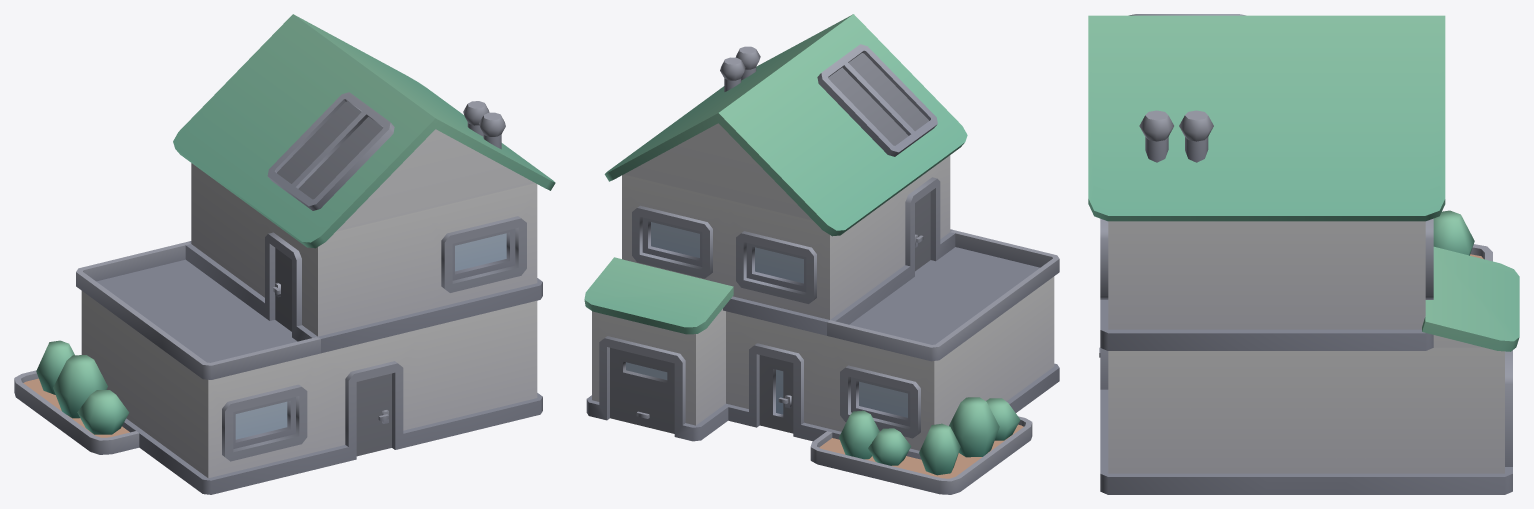
File: building-type-u.glb
The picture shows the model from 3 angles, left to right: view 1: azimuth 30°, elevation 25°; view 2: azimuth 150°, elevation 25°; view 3: azimuth 270°, elevation 25°; orthographic projection. The views are drawn at different scales.
Visible parts, largest first — view 1: building-type-u; view 2: building-type-u; view 3: building-type-u.
Boxes of the visible parts, bbox=[...] form: building-type-u: bbox=[14, 14, 555, 494]; building-type-u: bbox=[584, 14, 1059, 494]; building-type-u: bbox=[1088, 14, 1519, 494].
Size of the model in its own units: 1.43 by 1.14 by 1.09.
